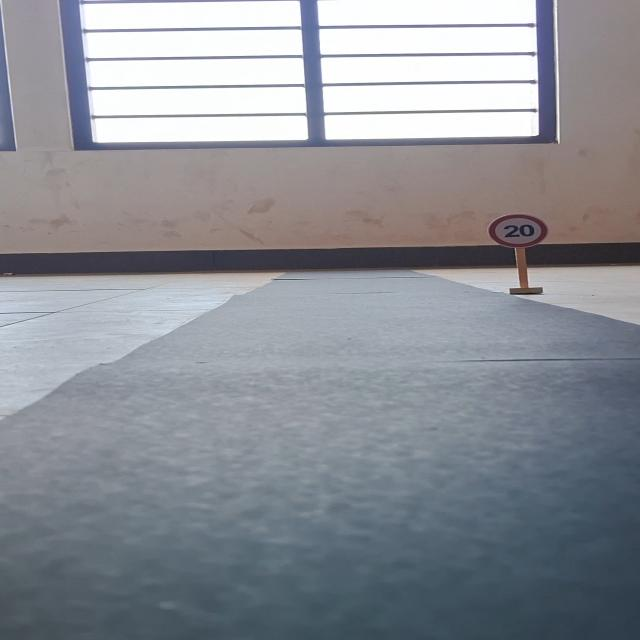Speed20: (487, 211, 553, 251)
